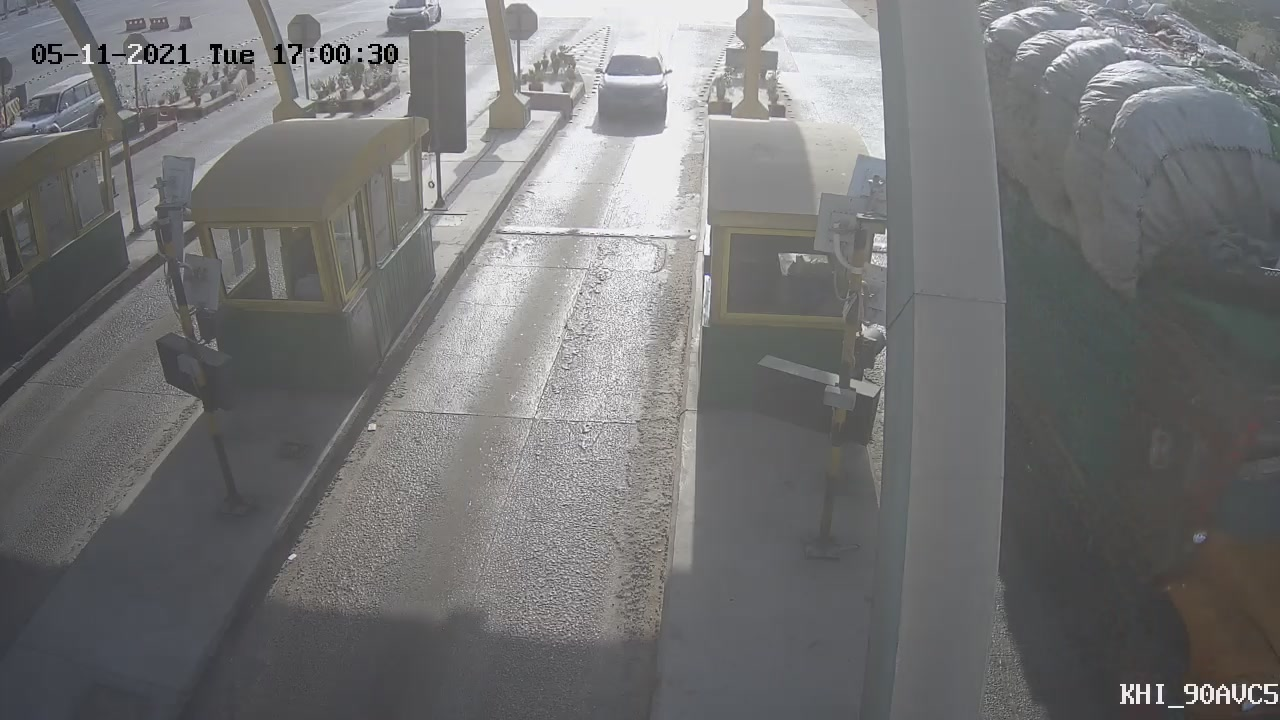F1: (577, 34, 682, 142)
